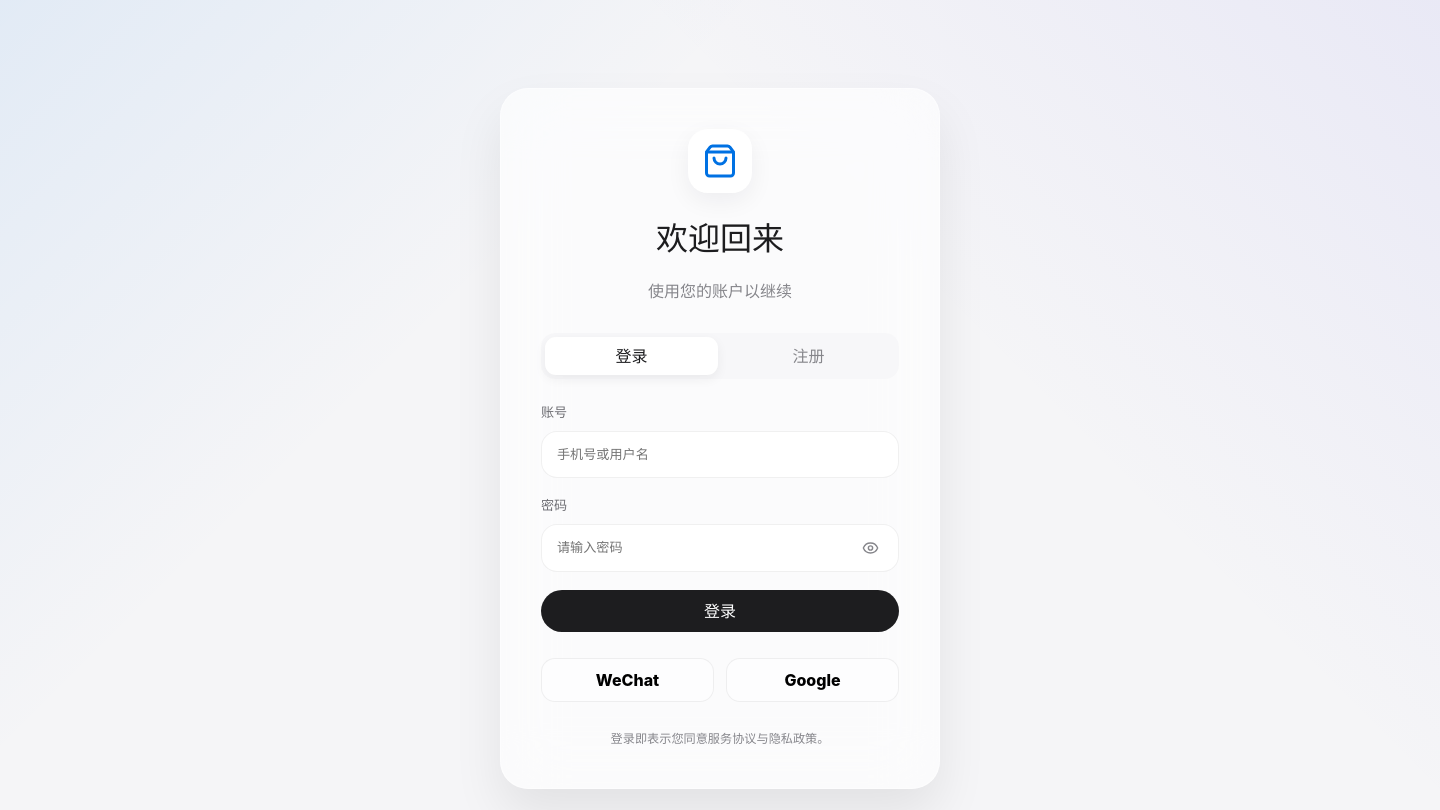
Test: LoginView › shows the backend login error without creating a fake session
Type "alice" into the field with placeholder "手机号或用户名". click: (720, 455)
box: x1=541 y1=431 x2=899 y2=478
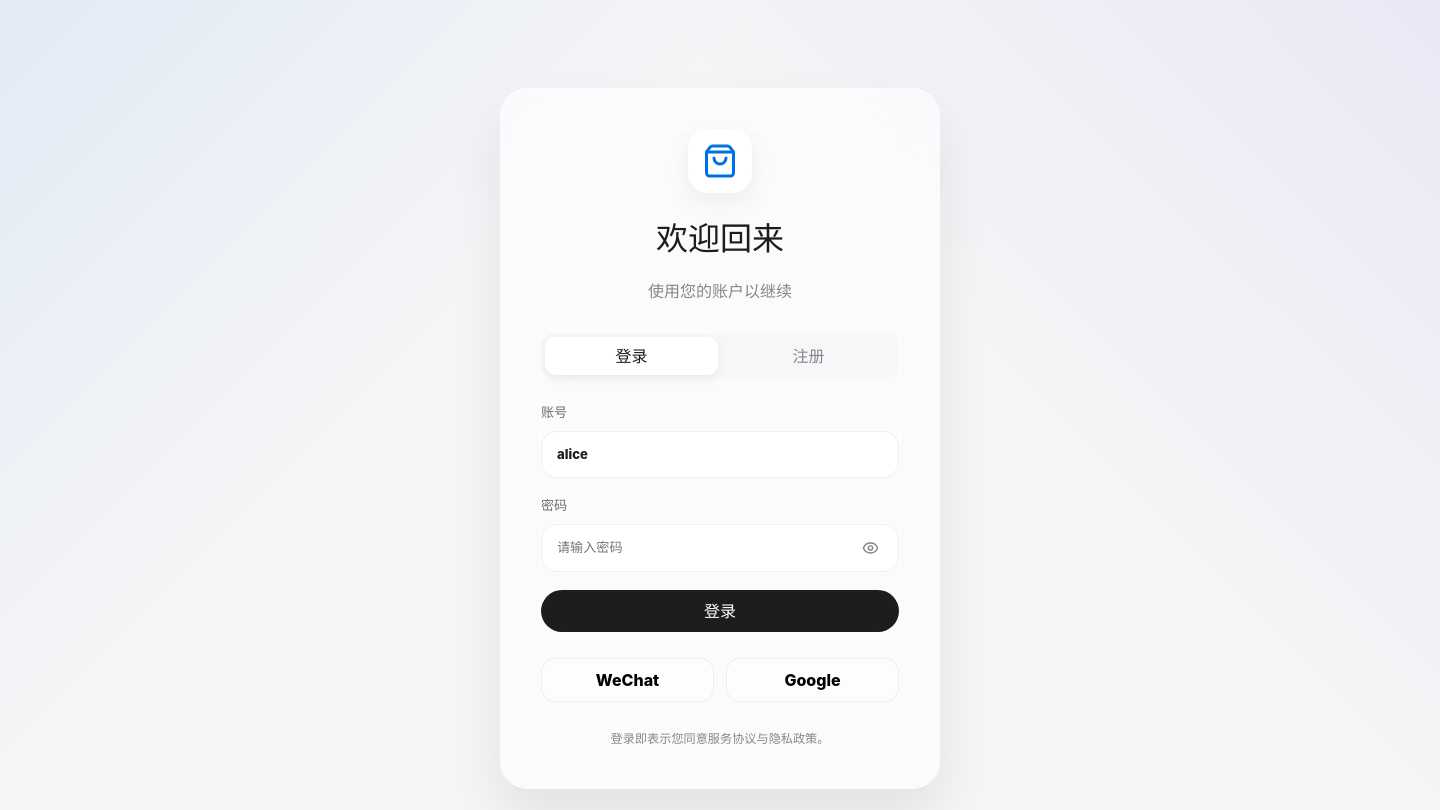
Type "wrong-password" into the password field with placeholder "请输入密码". click: (720, 548)
box: x1=541 y1=524 x2=899 y2=572
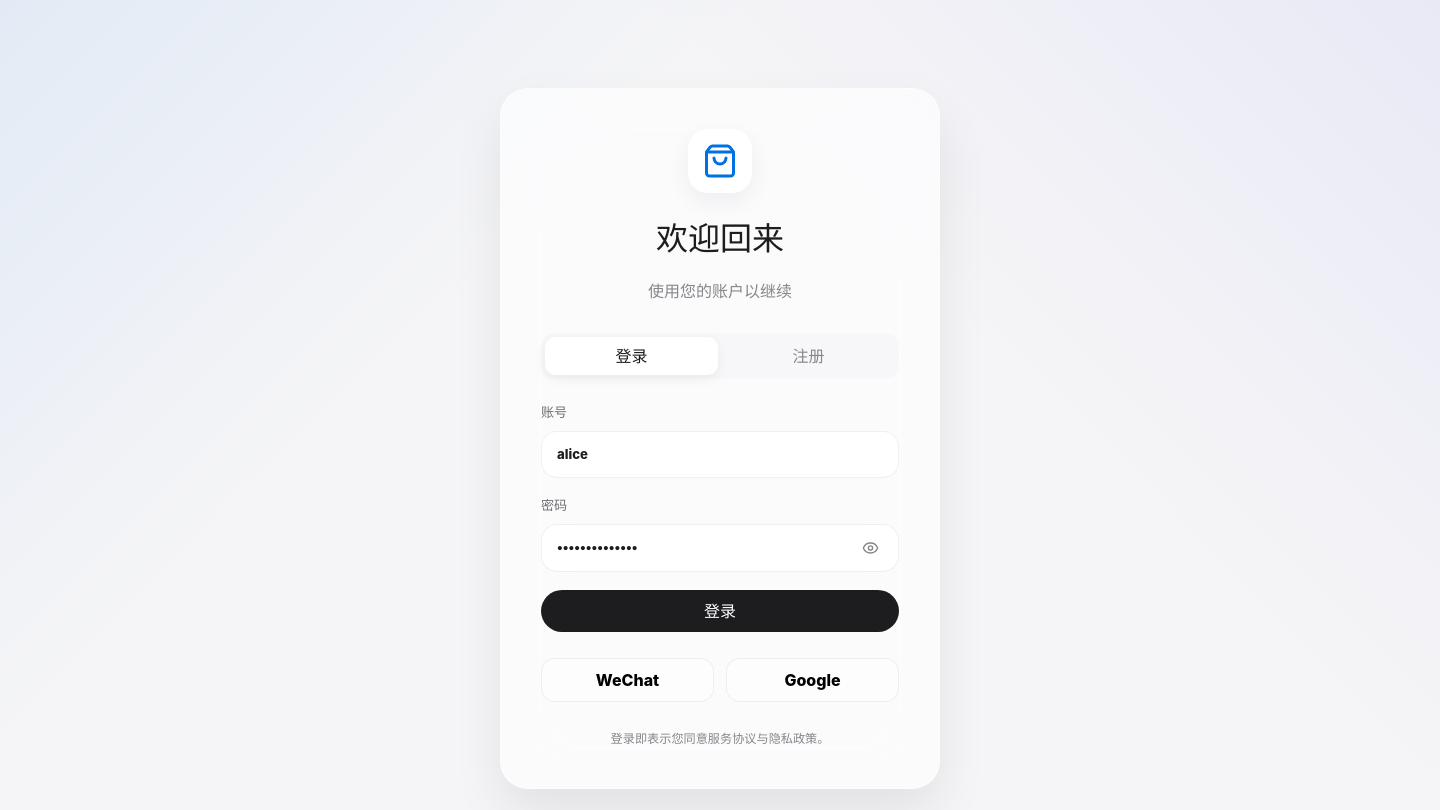
Submit the form, box x1=541 y1=403 x2=899 y2=632
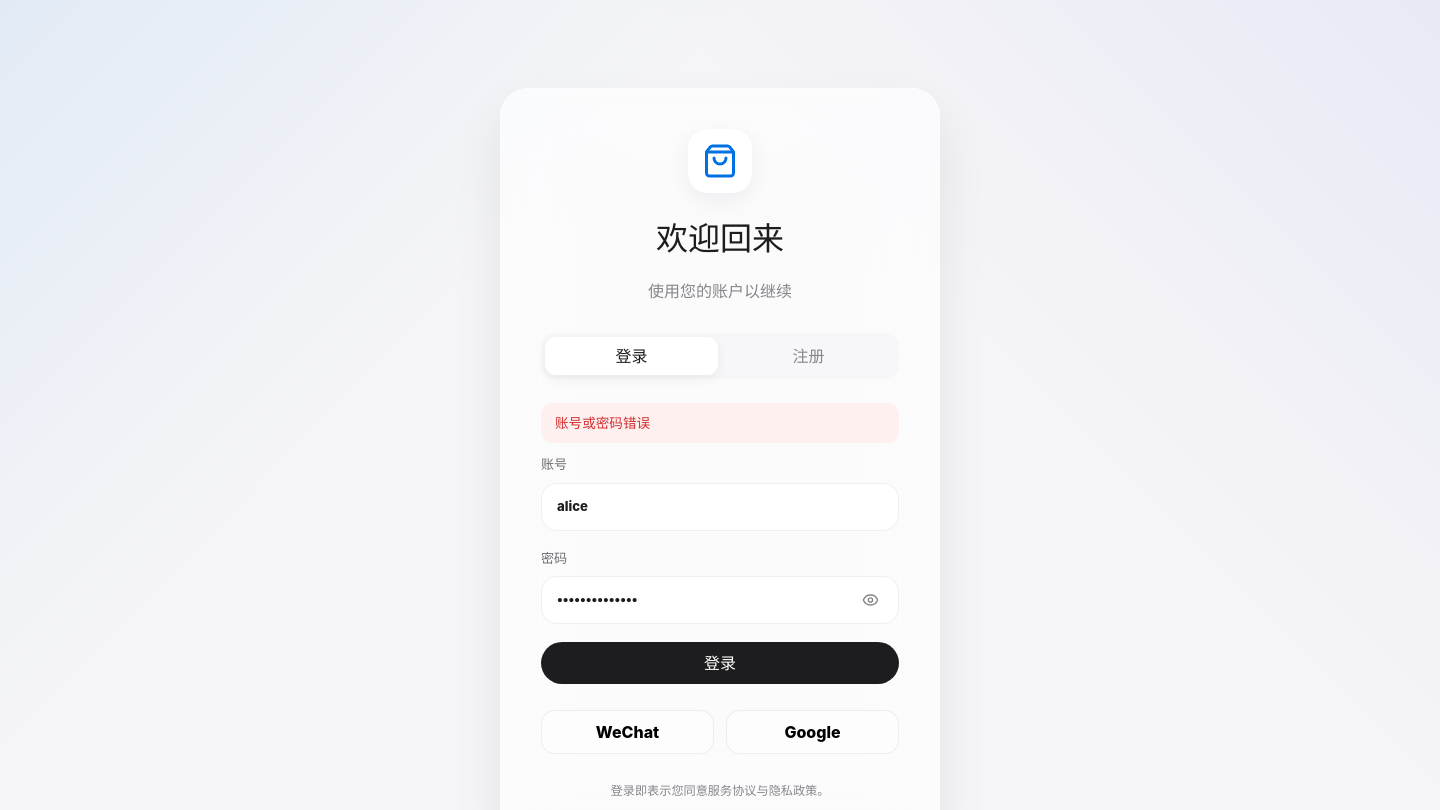
Expected: the text "账号或密码错误" is shown, x1=541 y1=403 x2=899 y2=443
